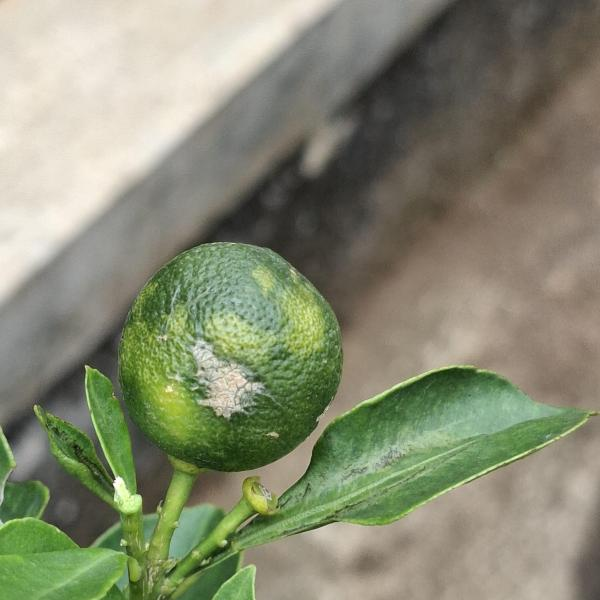Scab: (112, 220, 354, 486)
